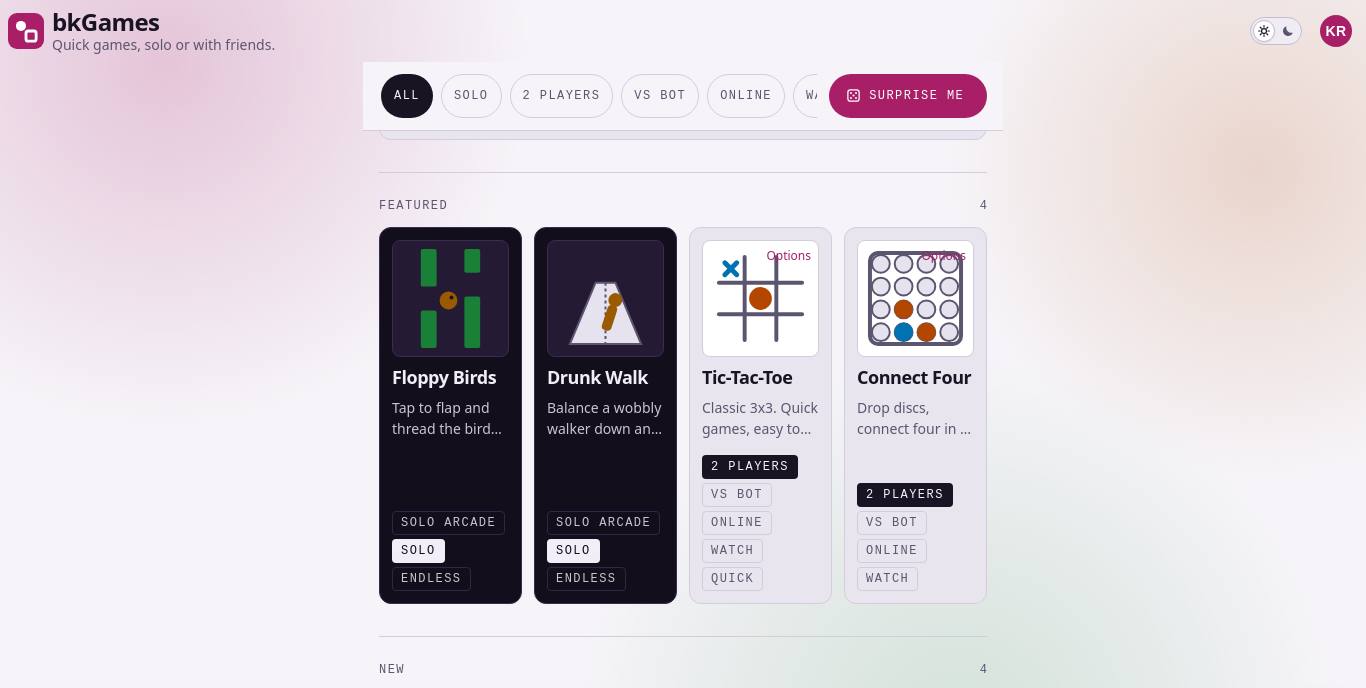
Test case: MPG-055: real-time run → post-game rank → full leaderboard › routes a finished real-time run to that game's SCORE leaderboard
(page scrolled)
What coordinates should you click on to do the following:
click the button "Floppy Birds"
I would click on:
 (450, 415)
Its box is [379,227,522,604].
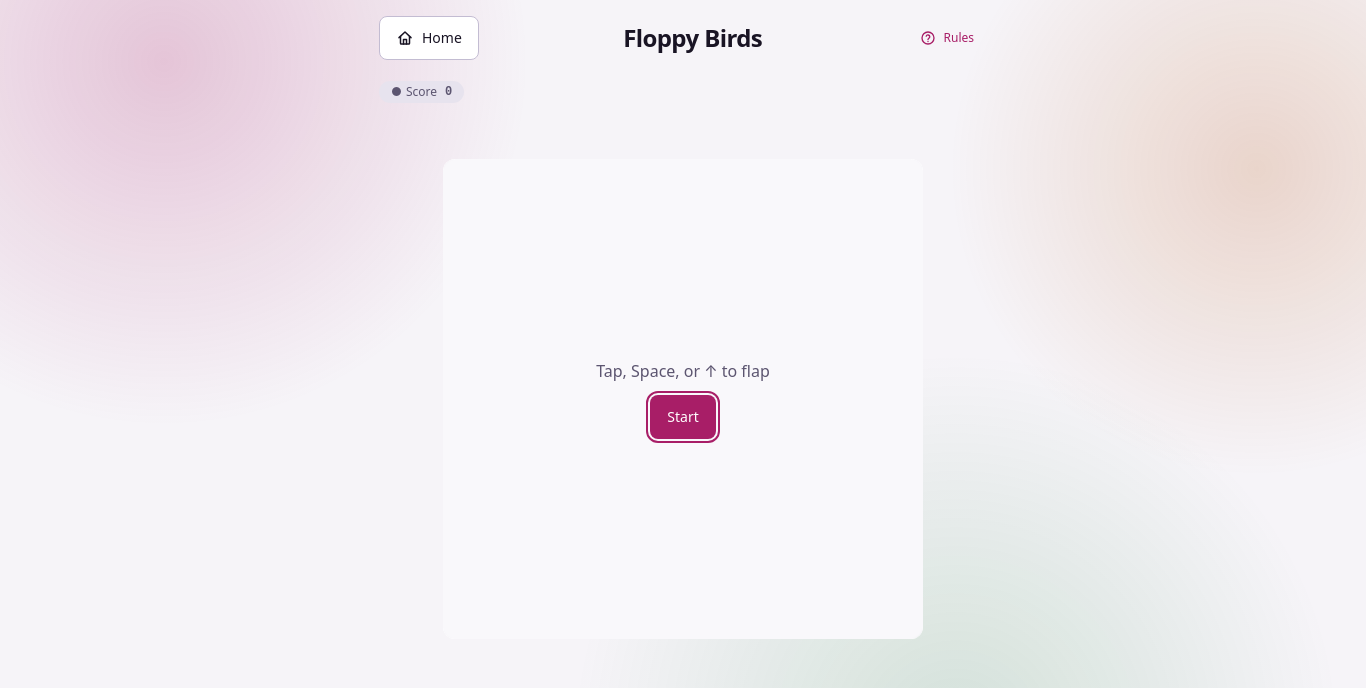
What coordinates should you click on to do the following:
click the button "Start"
I would click on:
 (683, 417)
Its box is [650,395,716,439].
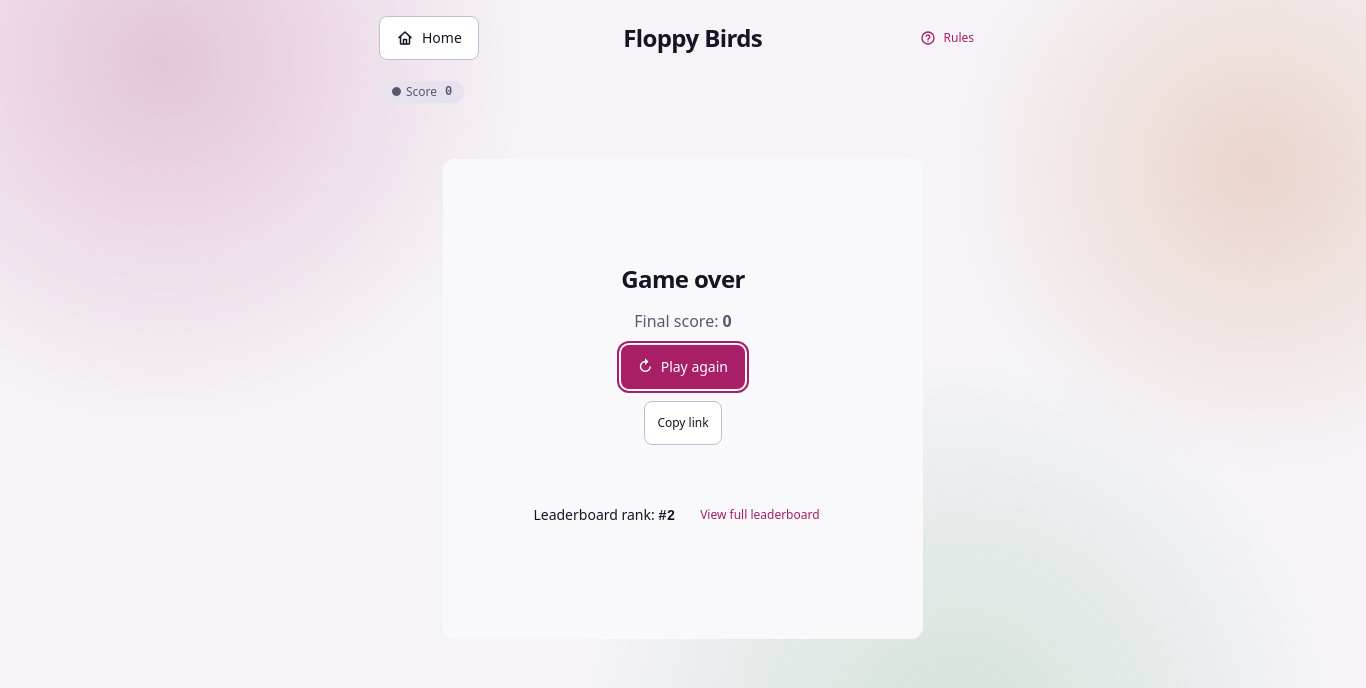
Expected: the text "Game over" is shown, [621,261,745,297]
What coordinates should you click on to do the following:
click the button "View full leaderboard"
I would click on:
 (760, 515)
Its box is [687,493,833,537].
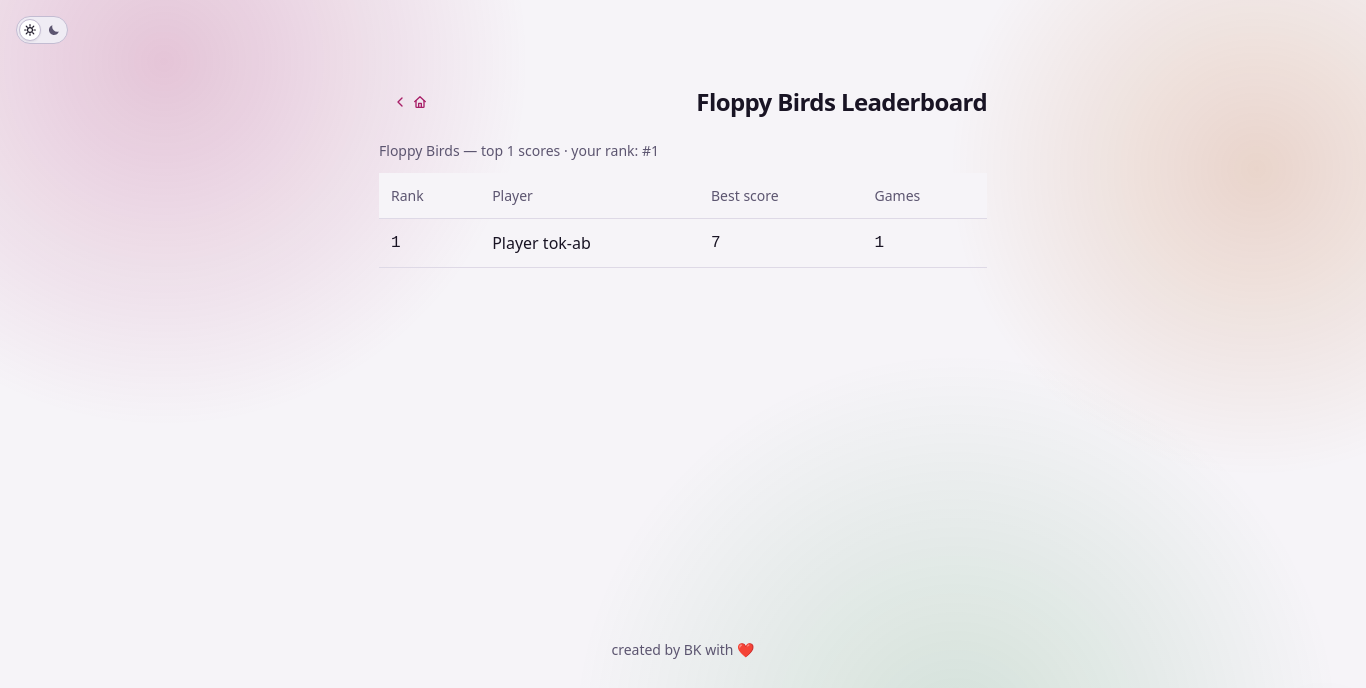
Expected: the heading "Floppy Birds Leaderboard" is shown, [696,84,987,120]
Expected: the column heading "Best score" is shown, [699,173,863,218]
